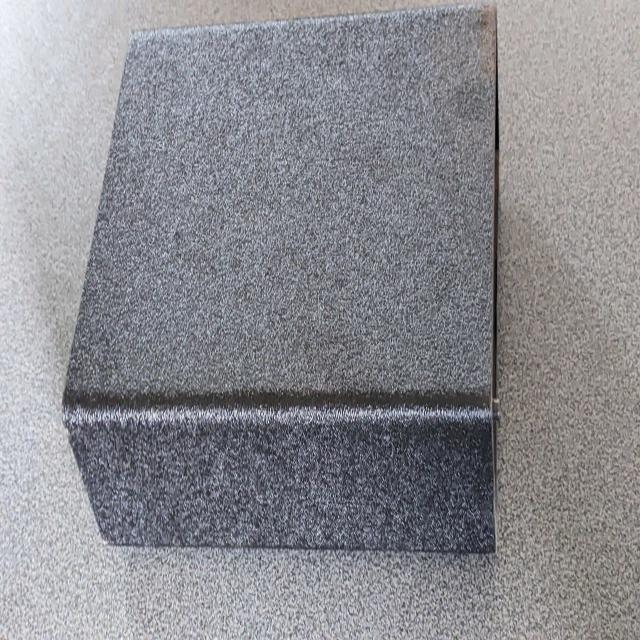SRP Digital Spark Timer: (56, 9, 518, 579)
